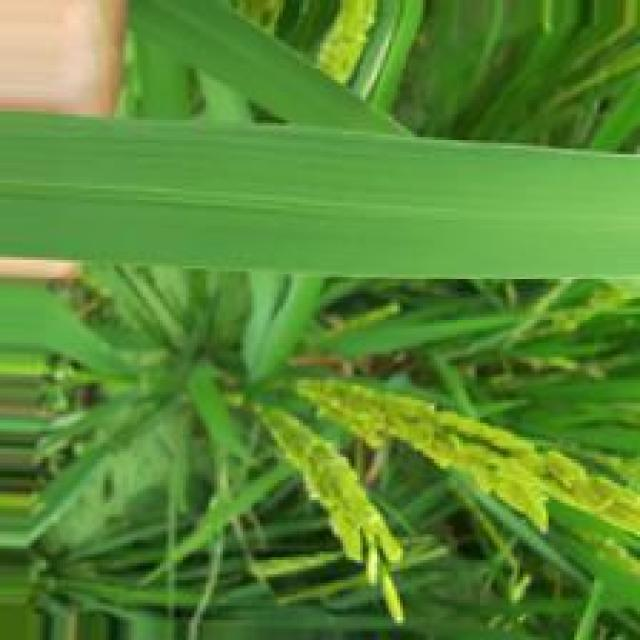HealthyLeaf: (0, 106, 639, 277)
